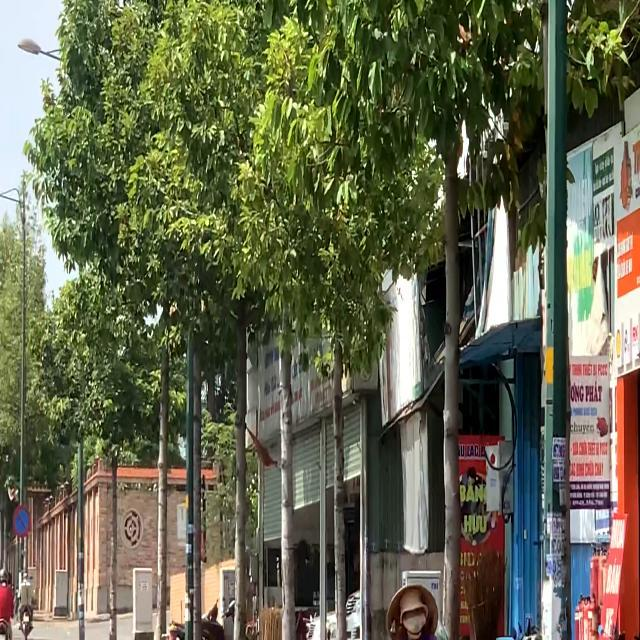P-131a: (11, 503, 35, 542)
